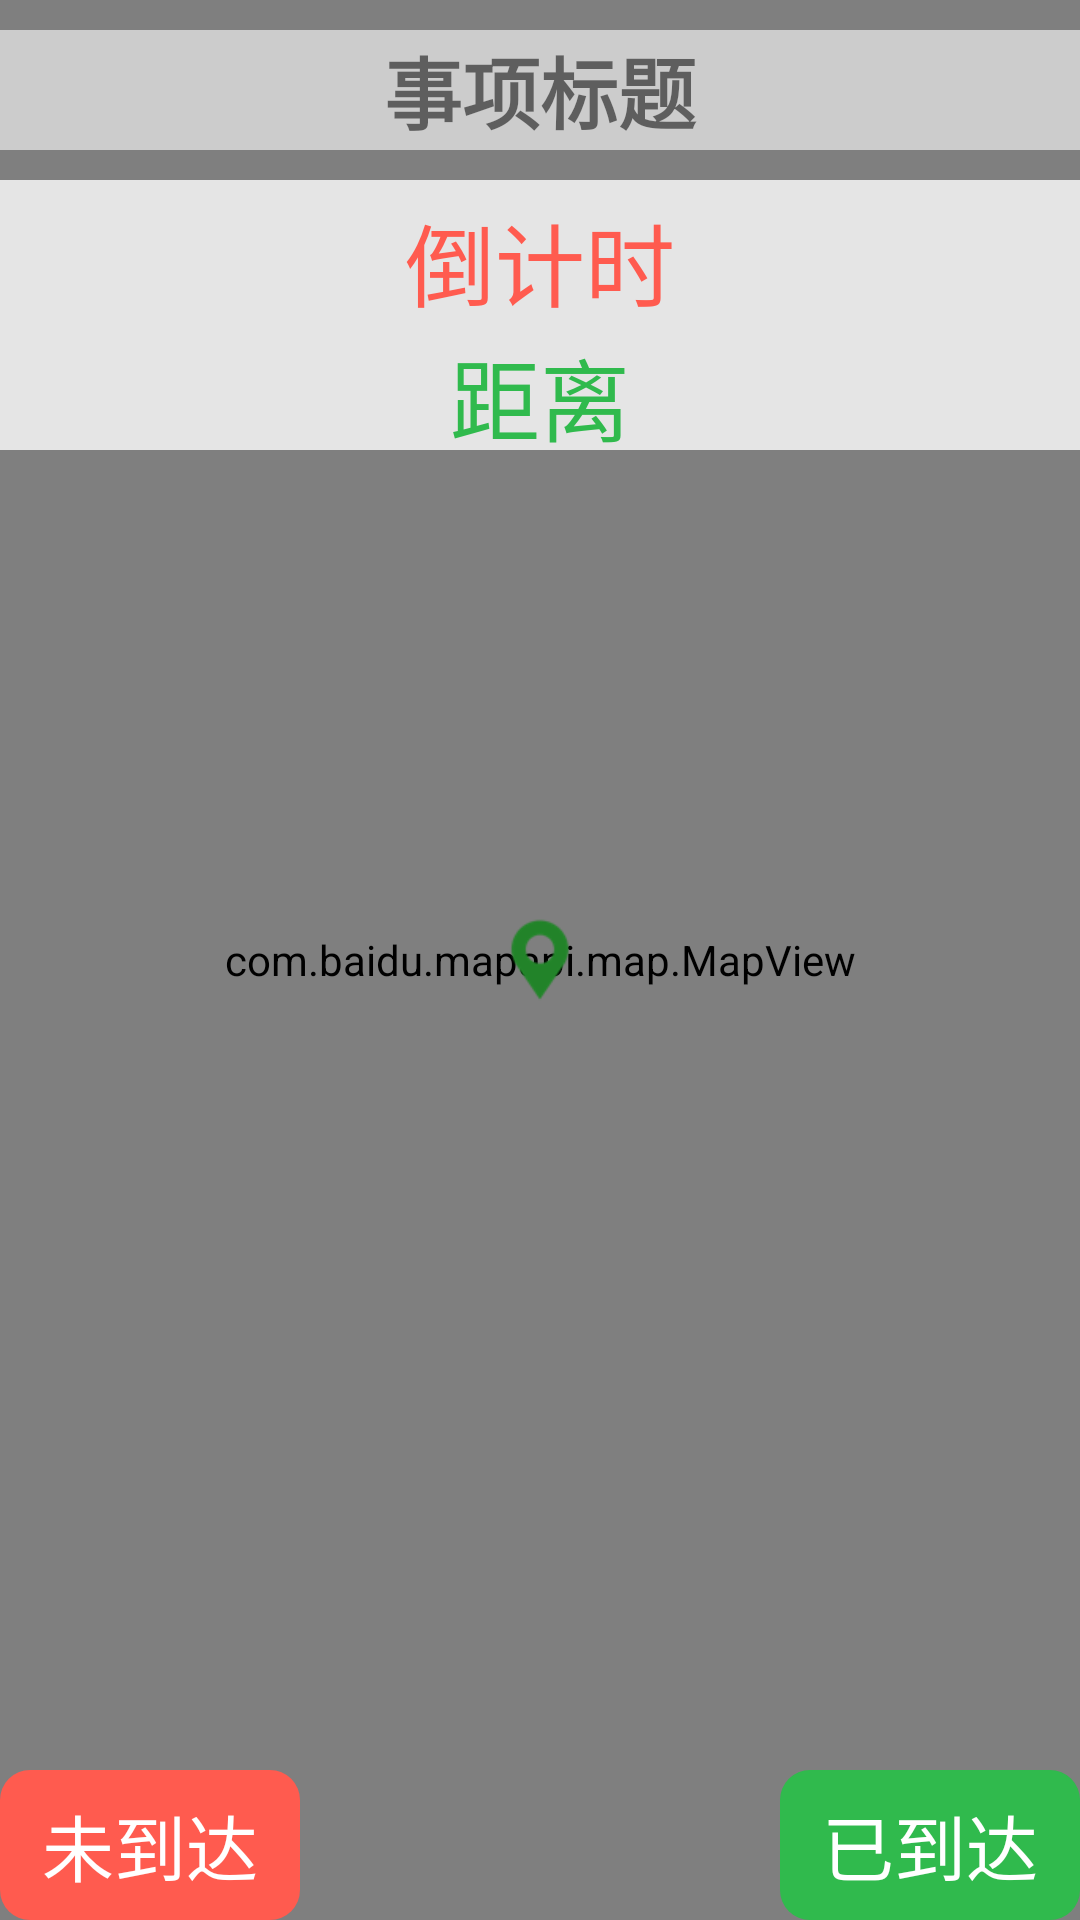

Screen size 1080x1920. Icon name, then its box in pixels as rect(x1, y1, x2, y2):
marker: rect(497, 920, 583, 999)
